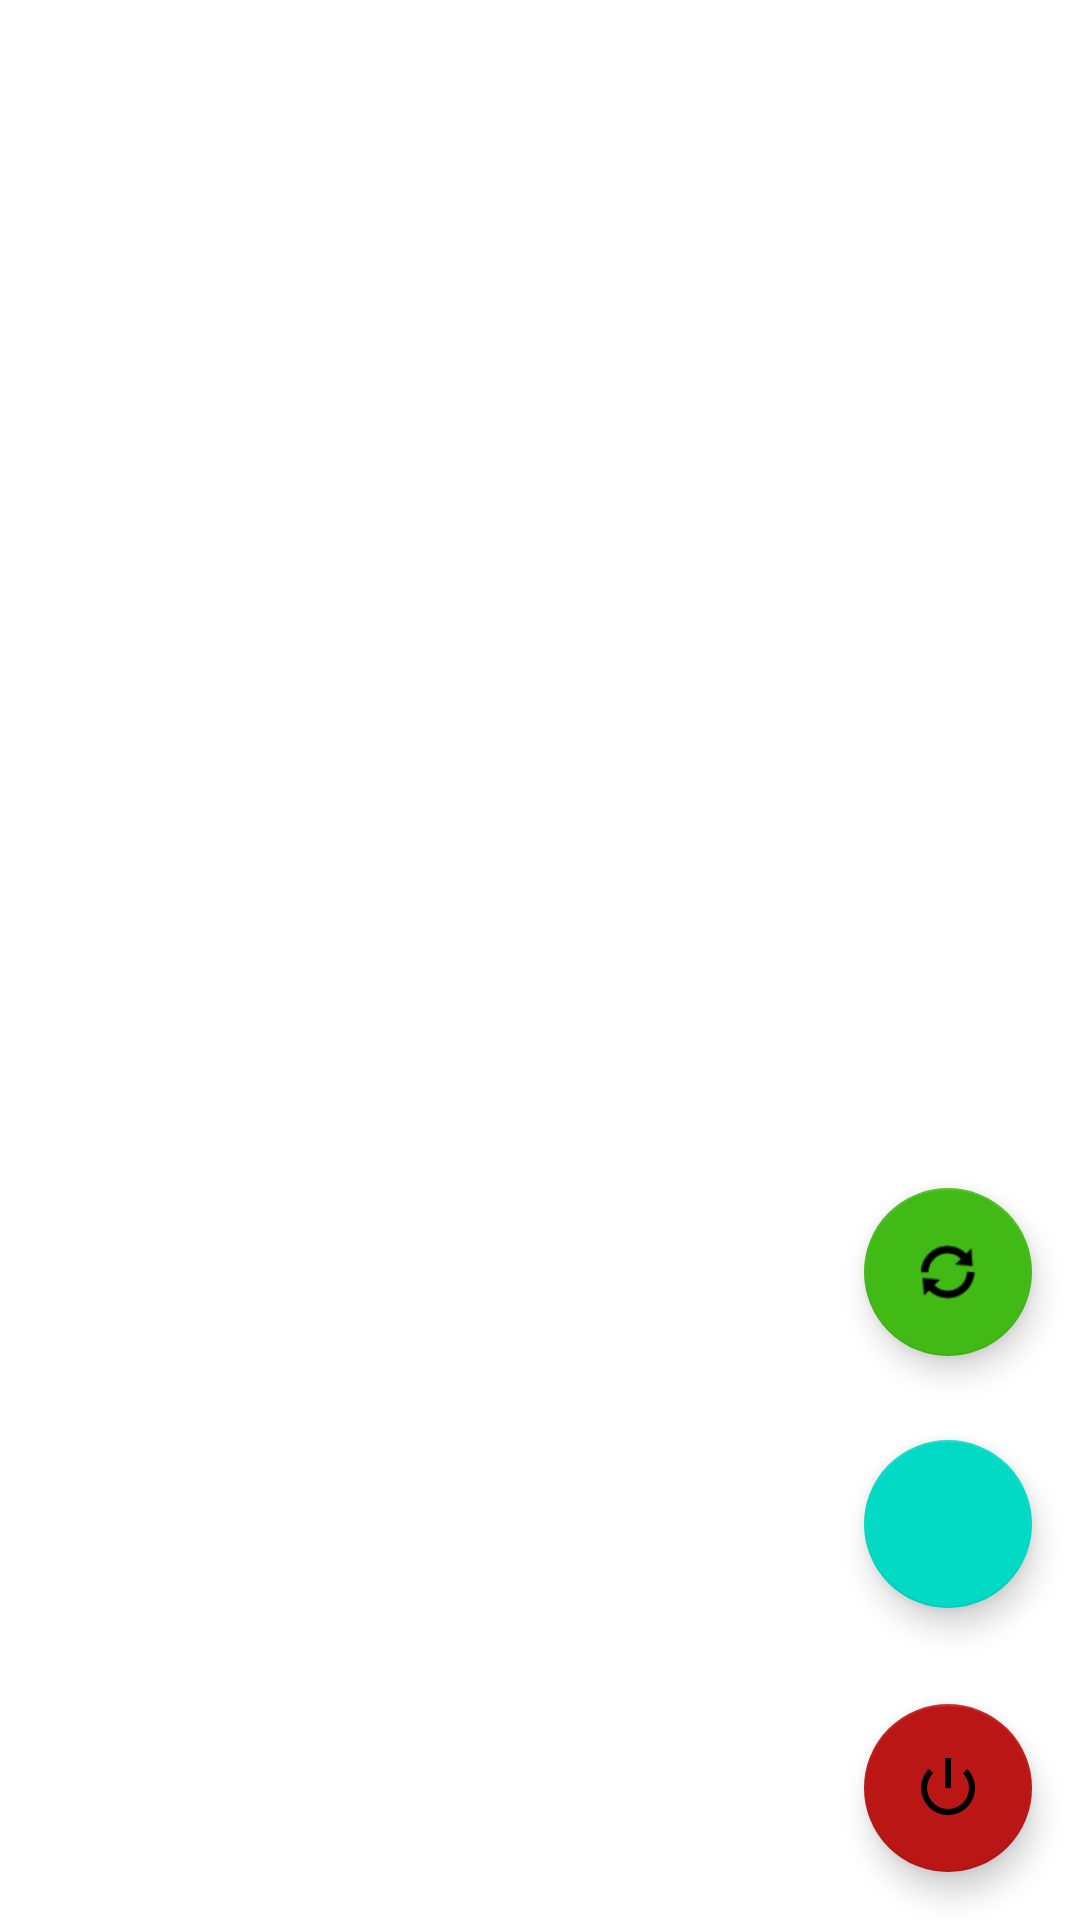

Named icons in this screenshot (1080*1920) and their bounding boxes, (x1,y1,x2,y2):
lock power off: (864,1704,1032,1872)
popup sync: (864,1188,1032,1356)
